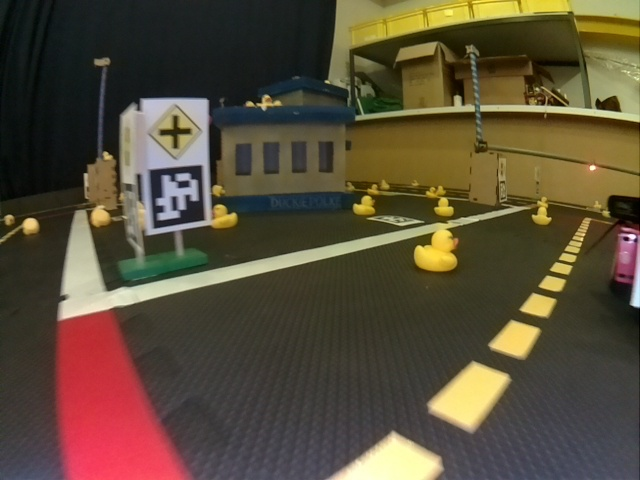Duckie: (414, 232, 459, 270), (213, 204, 238, 227), (354, 197, 376, 215), (435, 197, 453, 216), (93, 208, 111, 227), (532, 208, 552, 224), (23, 218, 38, 235), (426, 187, 436, 197), (380, 180, 388, 190)
Intersection sign: (148, 104, 201, 160)
QR code: (148, 169, 206, 228)
Traffic light: (588, 162, 598, 172)
